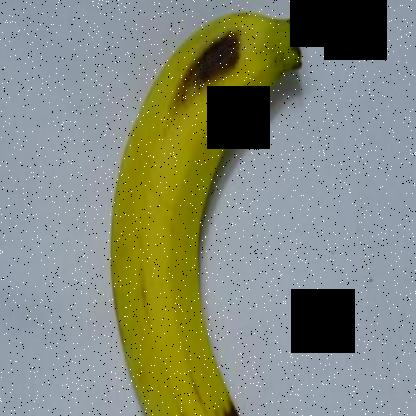freshripe: (94, 3, 297, 414)
